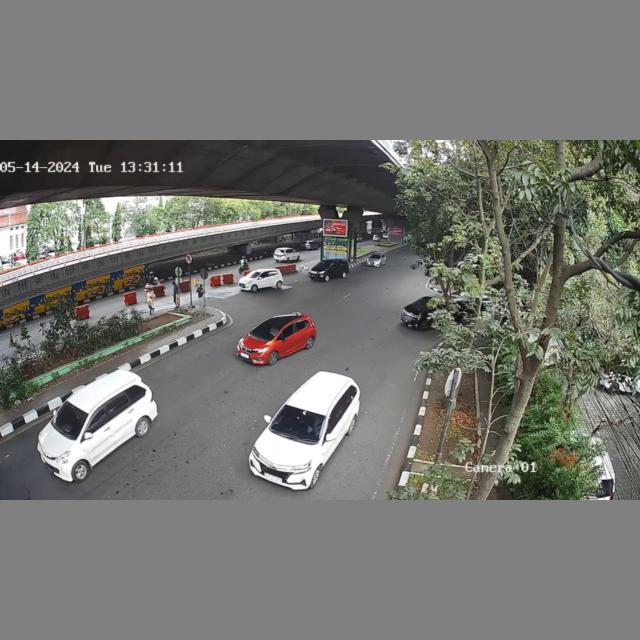windshield: (269, 402, 327, 444), (49, 403, 91, 436), (250, 320, 284, 341)
